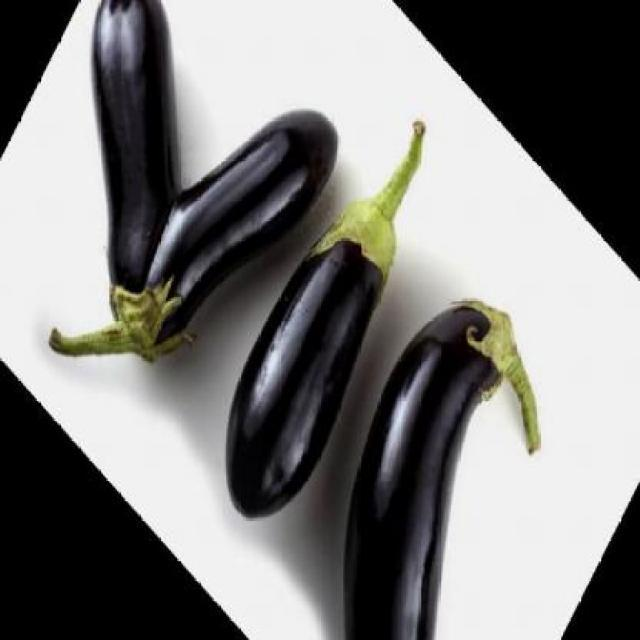eggplant: (224, 115, 431, 525), (49, 106, 348, 370), (339, 300, 546, 639), (84, 0, 184, 312)
